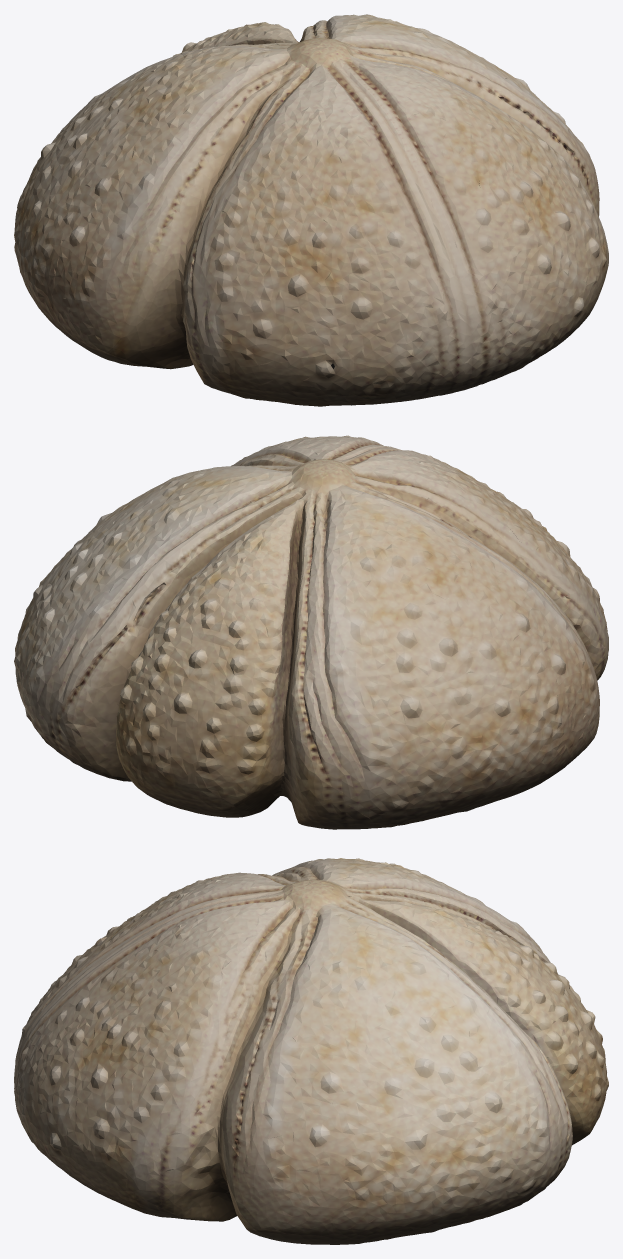
The picture shows the model from 3 angles, top to bottom: view 1: azimuth 30°, elevation 25°; view 2: azimuth 150°, elevation 25°; view 3: azimuth 270°, elevation 25°; orthographic projection.
Visible parts, largest first — view 1: world; view 2: world; view 3: world.
Part boxes in pixels (box(x1,y1,x2,y2)): world: box(14, 14, 608, 406); world: box(14, 435, 608, 829); world: box(14, 858, 608, 1244).
Bounding box in the file's own units: 0.9993 × 0.5115 × 1.
Materials: 1 (1 with a texture image).
